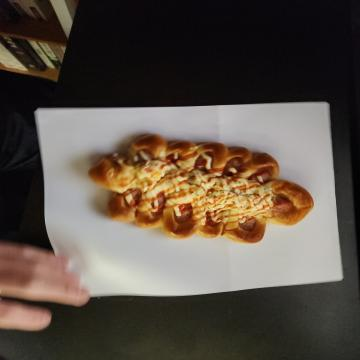pizza_bread: (132, 45, 243, 273)
